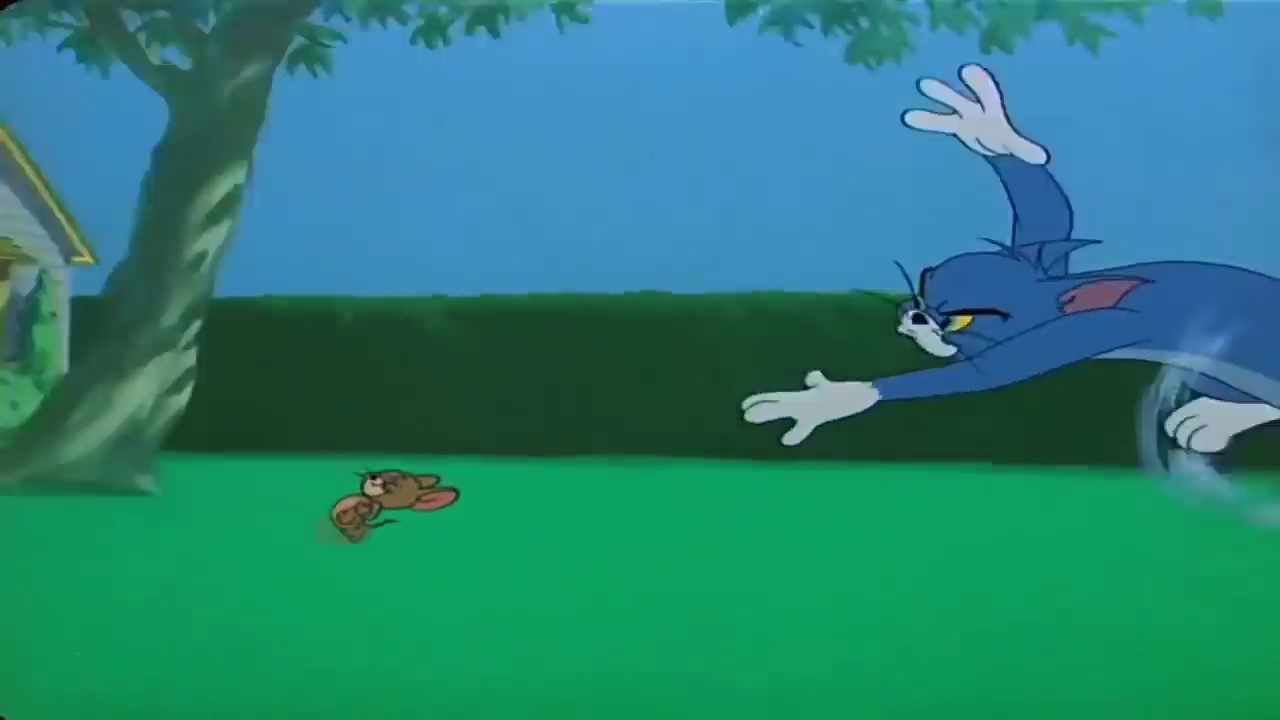tom: (890, 235, 1151, 363)
